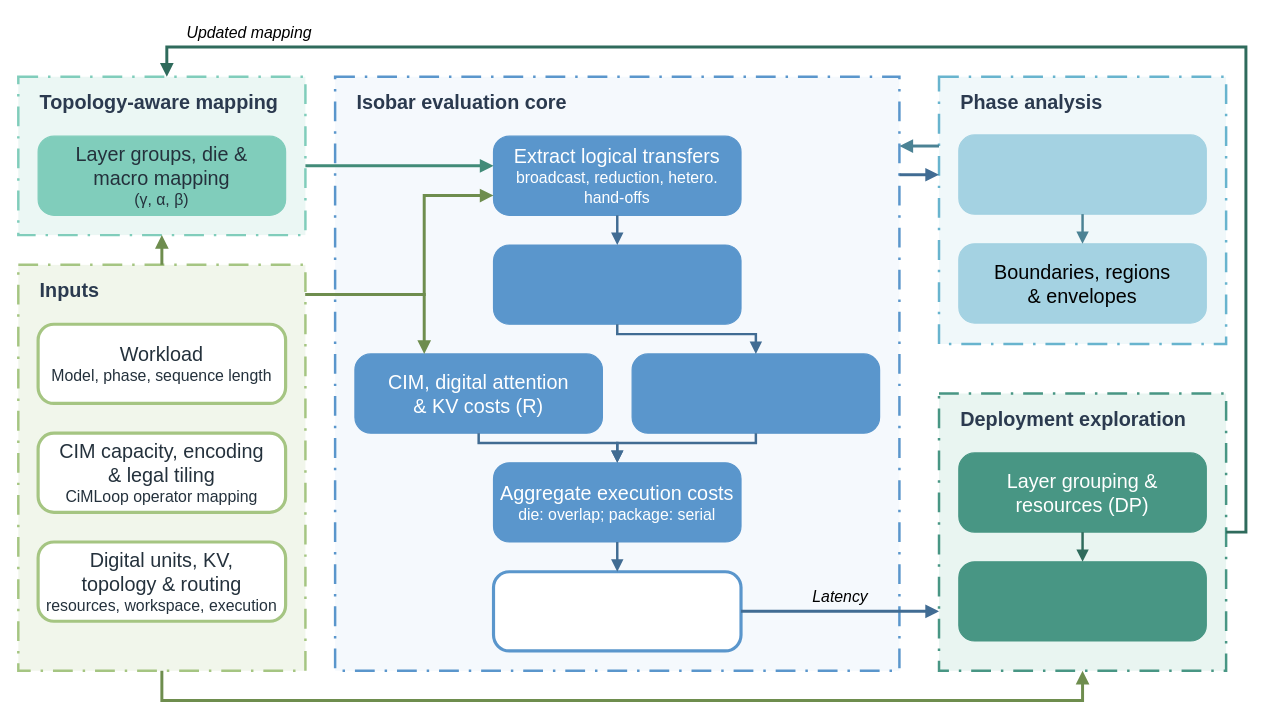
Some shapes in this 1272 by 727 pixel diagram are drawn without their labels. Each missing label, with the centre of its shape:
Communication costs (H) service times + propagation: (x=755, y=393)
Die mapping (SA) & macro assignment: (x=1082, y=601)
Latency & Dynamic energy: (x=616, y=611)
Route & accumulate loads links, CIM ports, digital interfaces: (x=616, y=284)
Sweep device rate & bandwidth: (x=1082, y=174)
